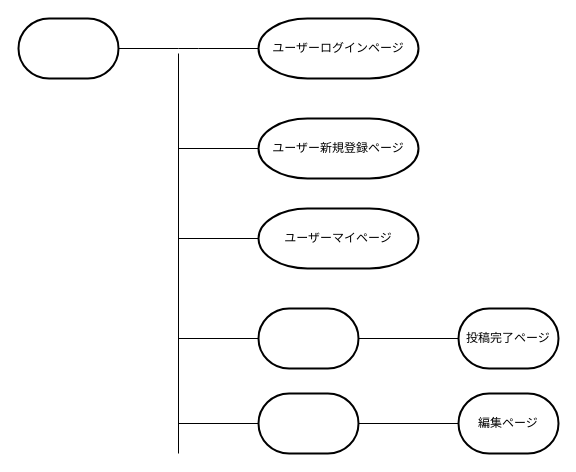
The diagram is 576 pixels wide and 472 high, and some of its shapes have lost their labels. Each missing label, with the centre of its shape:
一覧ページ: the point at 68,48
投稿ページ: the point at 308,338
詳細ページ: the point at 308,423
